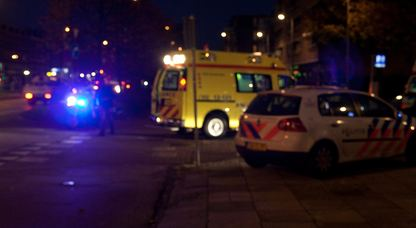ambulance: (145, 50, 303, 137)
car: (233, 86, 416, 170), (21, 76, 57, 104)
